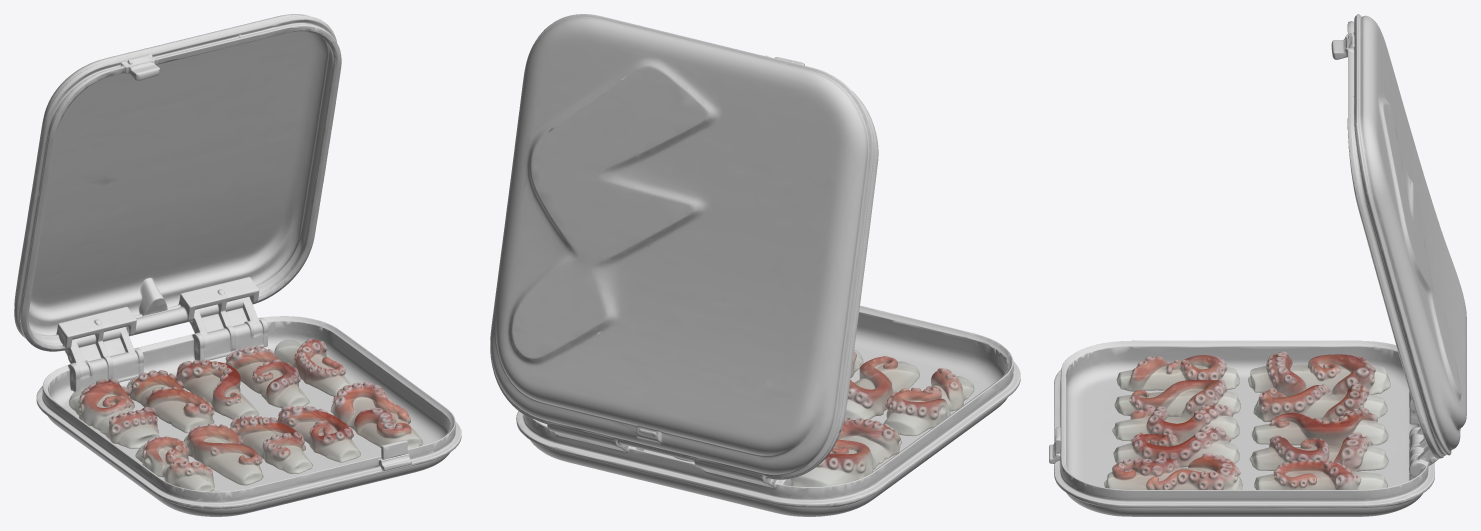
The model's file is tentacle-nails.glb.
3 renders of one model, left to right at view 1: azimuth 30°, elevation 25°; view 2: azimuth 150°, elevation 25°; view 3: azimuth 270°, elevation 25°, orthographic. The views are drawn at different scales.
Parts seen in each view (by area): view 1: unnamed_n3d, node_0; view 2: unnamed_n3d, node_0; view 3: unnamed_n3d, node_0.
Boxes of the visible parts, <box> form: unnamed_n3d: <box>14,14,461,516</box>; node_0: <box>69,338,422,491</box>; unnamed_n3d: <box>490,14,1020,516</box>; node_0: <box>673,349,974,486</box>; unnamed_n3d: <box>1049,14,1466,516</box>; node_0: <box>1104,351,1390,489</box>.
Size of the model in its own units: 0.7142 by 0.8158 by 0.8122.
2 materials, 1 textured.
